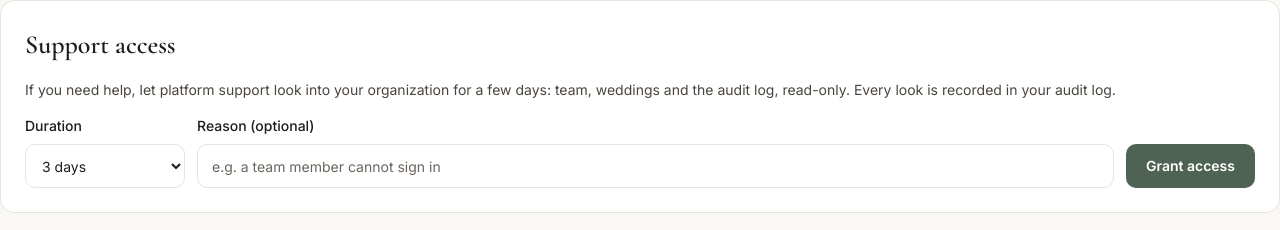
Test: org admins grant support access for a few days with a reason
This screenshot has width=1280, height=230.
Step 1. Select "7 days" in the dropdown labelled "Duration" → (105, 166), box top-left (25, 144), bottom-right (185, 188)
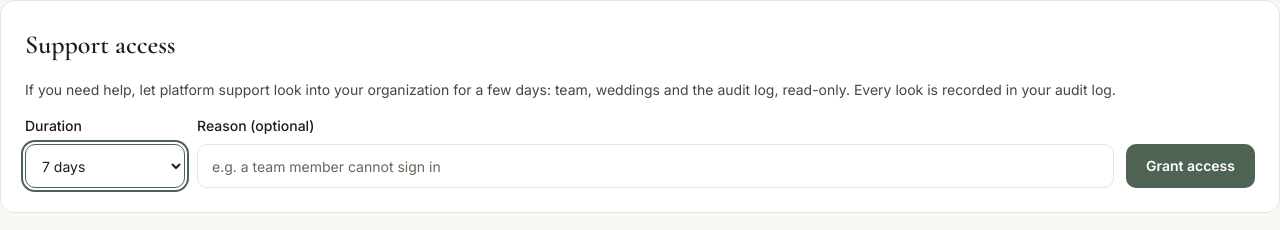
Step 2. Type "Login problem" into the field labelled "Reason (optional)" → (656, 166), box top-left (197, 144), bottom-right (1114, 188)
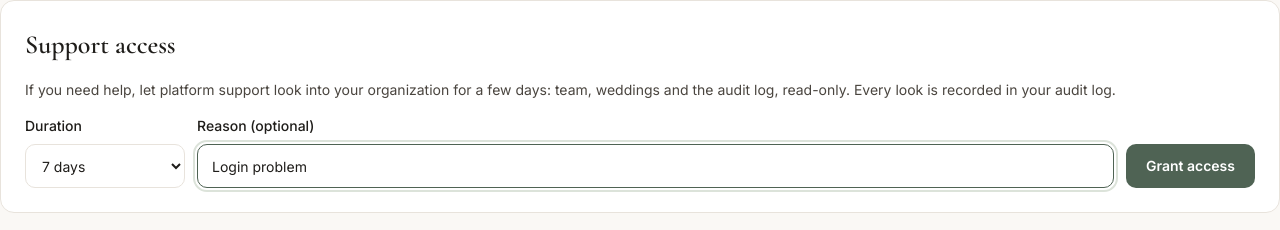
Step 3. Click the button "Grant access" → (1190, 166), box top-left (1126, 144), bottom-right (1255, 188)
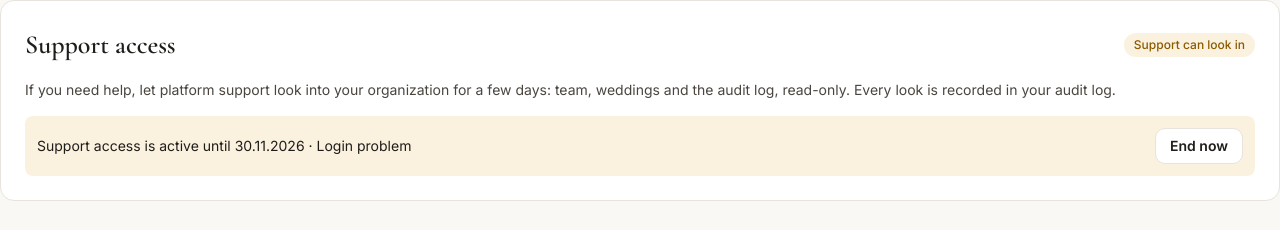
Expected: the button "End now" is enabled, top-left (1155, 128), bottom-right (1243, 164)
Now the text "Support access is active until 30.11.2026 · Login problem" is shown, box top-left (37, 136), bottom-right (411, 156)
